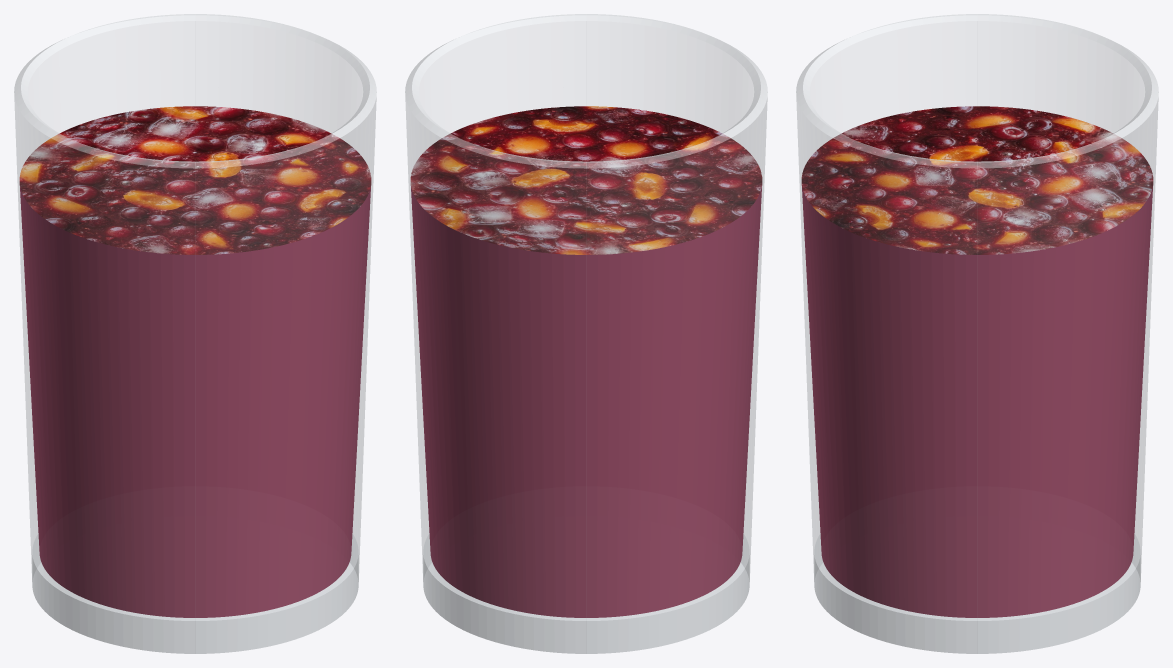
The model's file is kompot.glb.
The picture shows the model from 3 angles, left to right: view 1: azimuth 30°, elevation 25°; view 2: azimuth 150°, elevation 25°; view 3: azimuth 270°, elevation 25°; orthographic projection.
Parts seen in each view (by area): view 1: kompot_0, kompot_3, kompot_4, kompot_2, kompot_1; view 2: kompot_0, kompot_3, kompot_4, kompot_2, kompot_1; view 3: kompot_0, kompot_3, kompot_4, kompot_2, kompot_1.
Part boxes in pixels (x1,y1,x2,y2): kompot_0: [14, 21, 376, 653]; kompot_3: [19, 185, 371, 617]; kompot_4: [19, 106, 371, 254]; kompot_2: [32, 533, 358, 653]; kompot_1: [14, 14, 376, 168]; kompot_0: [405, 21, 767, 653]; kompot_3: [410, 185, 762, 617]; kompot_4: [410, 106, 762, 254]; kompot_2: [423, 533, 749, 653]; kompot_1: [405, 14, 767, 168]; kompot_0: [796, 21, 1158, 653]; kompot_3: [801, 185, 1153, 617]; kompot_4: [801, 106, 1153, 254]; kompot_2: [814, 533, 1140, 653]; kompot_1: [796, 14, 1158, 168].
Bounding box in the file's own units: 0.08 × 0.121 × 0.08.
5 materials, 1 textured.
